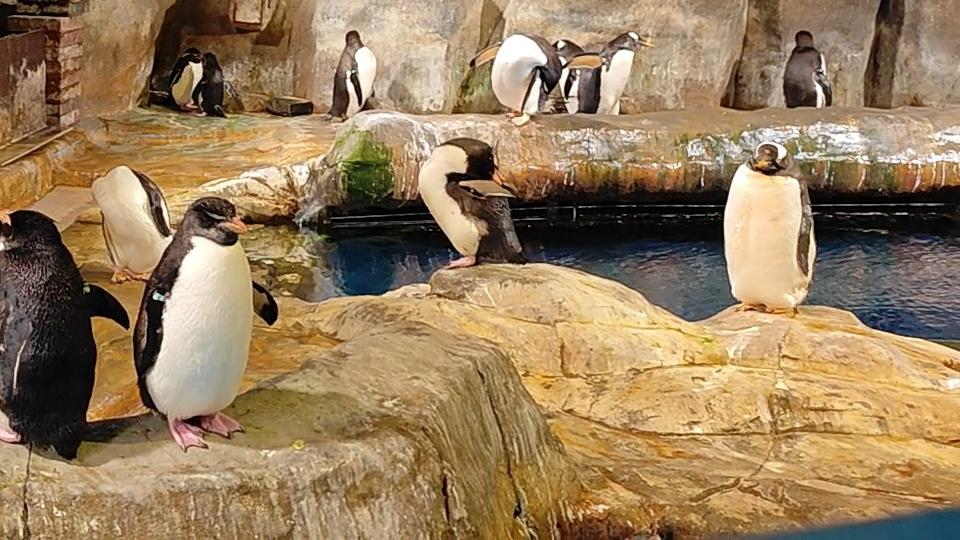Southern Rockhopper Penguin: (127, 193, 287, 463), (0, 201, 130, 460), (190, 43, 232, 123), (164, 44, 204, 119), (0, 95, 4, 184), (0, 174, 2, 287)
